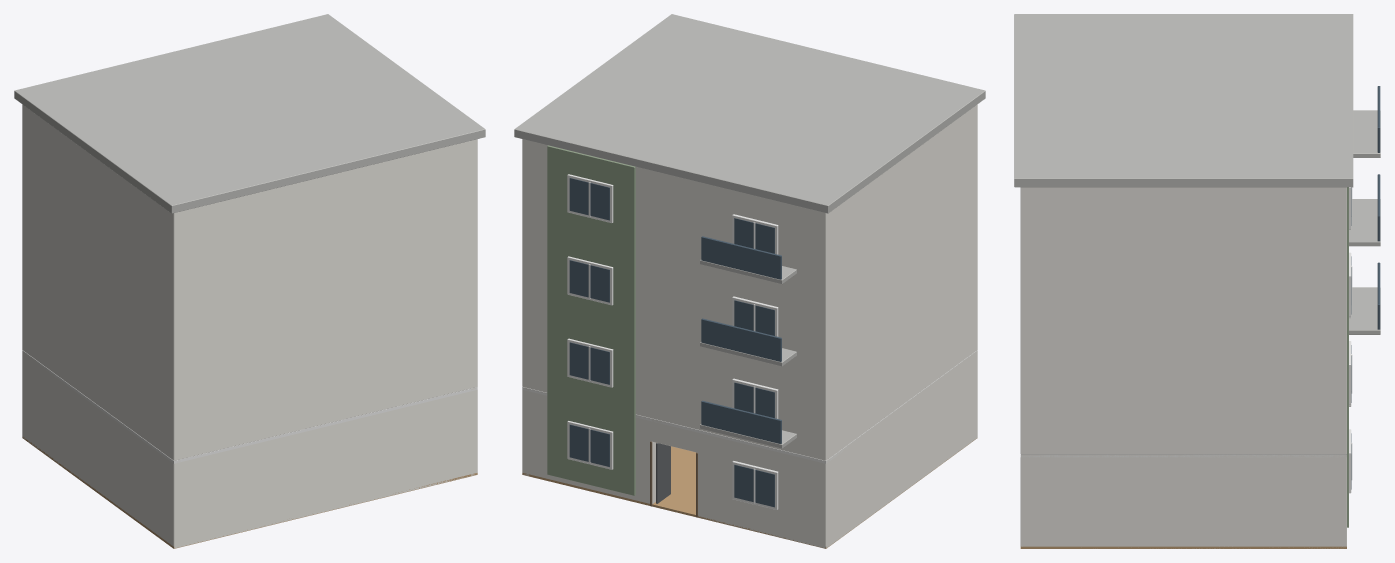
File: Sultanbeyli_ModernApartman.fbx
3 renders of one model, left to right at view 1: azimuth 30°, elevation 25°; view 2: azimuth 150°, elevation 25°; view 3: azimuth 270°, elevation 25°, orthographic. The views are drawn at different scales.
Visible parts, largest first — view 1: Sultanbeyli_ModernApartman; view 2: Sultanbeyli_ModernApartman; view 3: Sultanbeyli_ModernApartman.
Part boxes in pixels (left/top/right/bottom): Sultanbeyli_ModernApartman: left=14, top=14, right=485, bottom=548; Sultanbeyli_ModernApartman: left=514, top=14, right=985, bottom=548; Sultanbeyli_ModernApartman: left=1014, top=14, right=1380, bottom=548.
Size of the model in its own units: 12.2 by 12.87 by 11.45.
